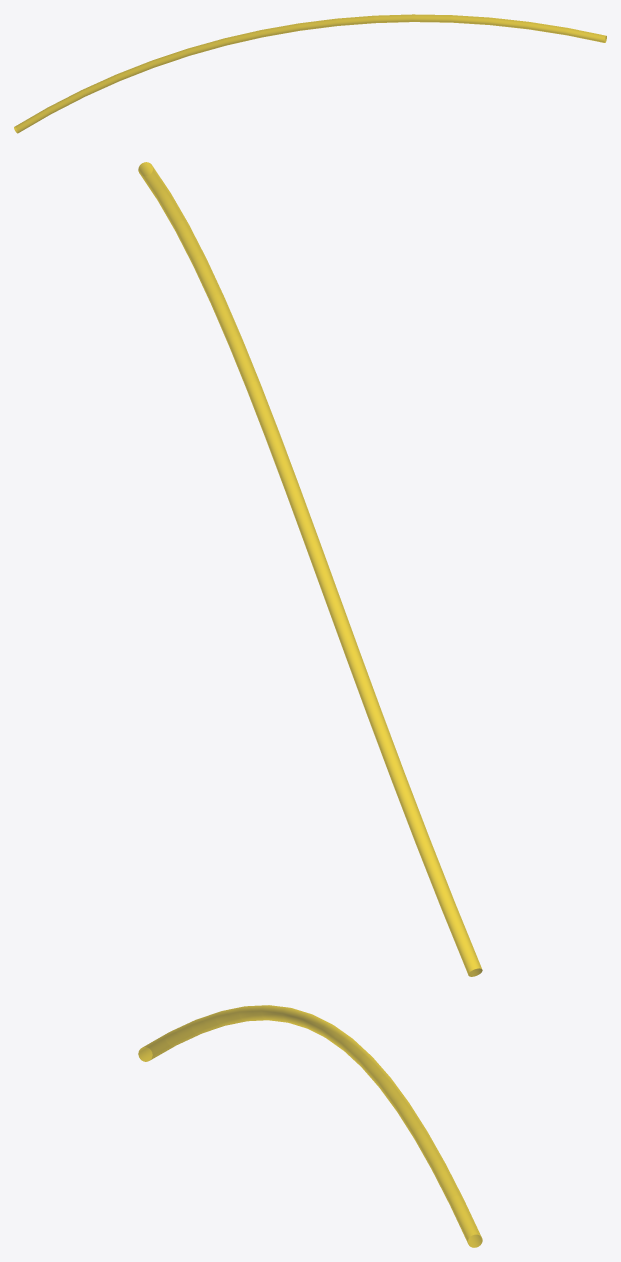
Rendered from Event_27938768_track_15.fbx.
3 renders of one model, top to bottom at view 1: azimuth 30°, elevation 25°; view 2: azimuth 150°, elevation 25°; view 3: azimuth 330°, elevation 25°, orthographic. The views are drawn at different scales.
Parts seen in each view (by area): view 1: Model; view 2: Model; view 3: Model.
Boxes of the visible parts, x1,y1,x2,y2 form: Model: (14, 14, 606, 133); Model: (138, 162, 482, 976); Model: (138, 1005, 482, 1247).
Size of the model in its own units: 2.33 by 0.956 by 2.27.
